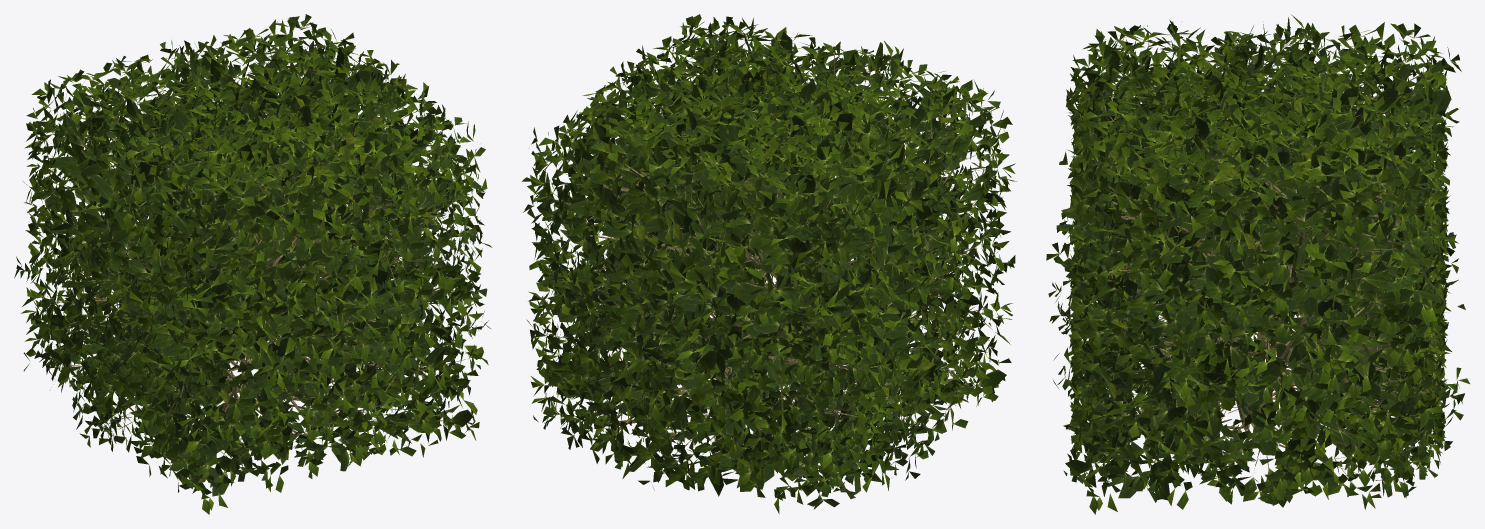
File: bush_square.glb
3 views of the same model, side by side, from view 1: azimuth 30°, elevation 25°; view 2: azimuth 150°, elevation 25°; view 3: azimuth 270°, elevation 25° (orthographic). The views are drawn at different scales.
Visible parts, largest first — view 1: Object_2, Object_3; view 2: Object_3, Object_2; view 3: Object_3, Object_2.
Part boxes in pixels (box(x1,y1,x2,y2)): Object_2: box(14, 14, 490, 514); Object_3: box(23, 16, 492, 494); Object_3: box(522, 17, 1016, 513); Object_2: box(526, 14, 1006, 509); Object_3: box(1048, 20, 1465, 514); Object_2: box(1046, 14, 1469, 508).
Size of the model in its own units: 8.67 by 8.19 by 8.67.
1 material, 1 textured.
